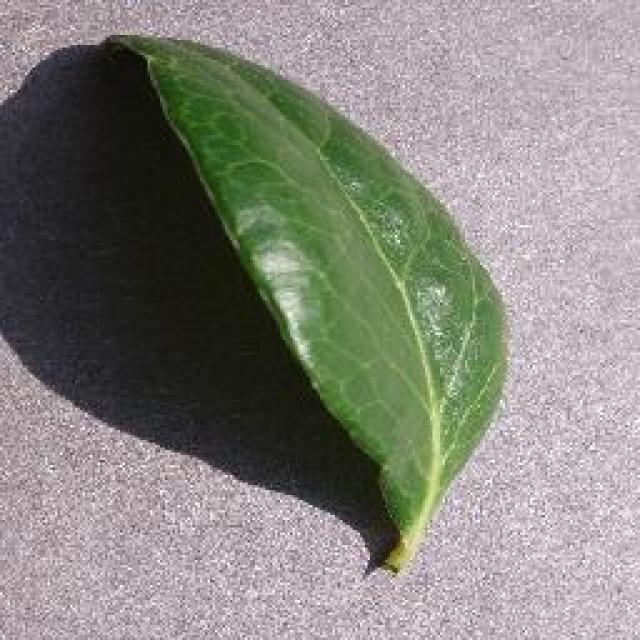Blu_healthy: (202, 89, 468, 431)
